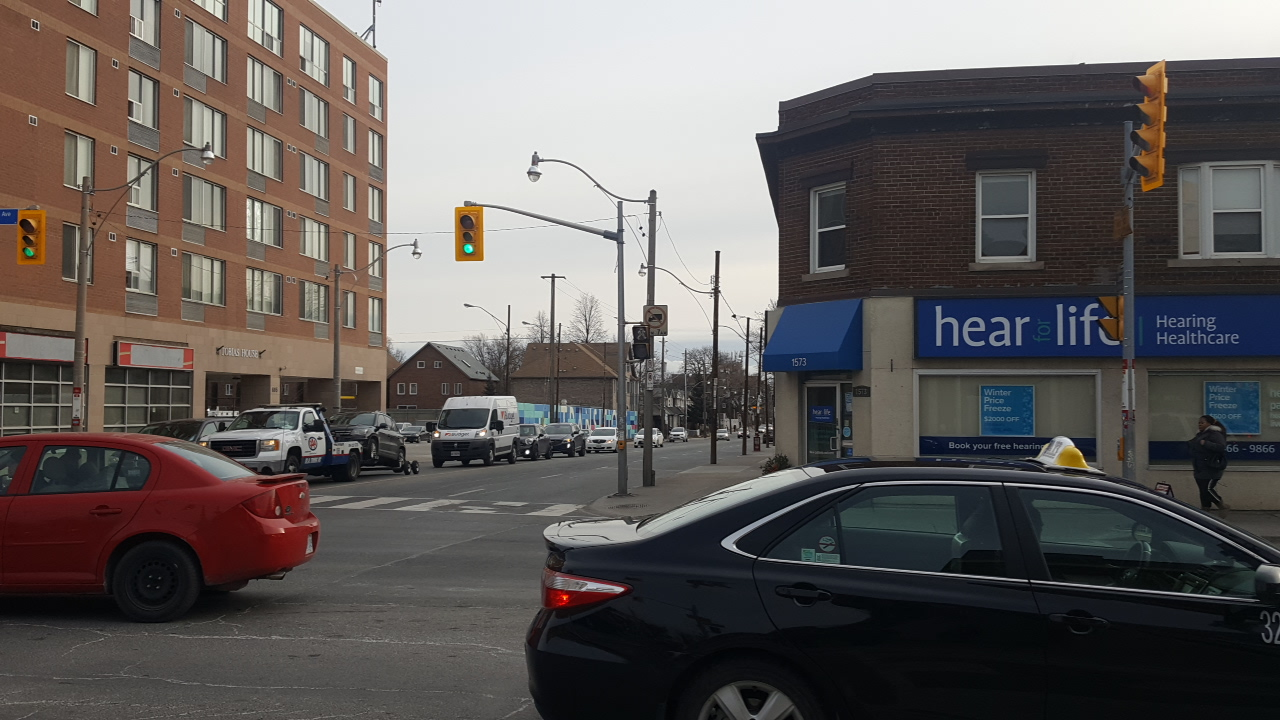light: (630, 322, 652, 361)
